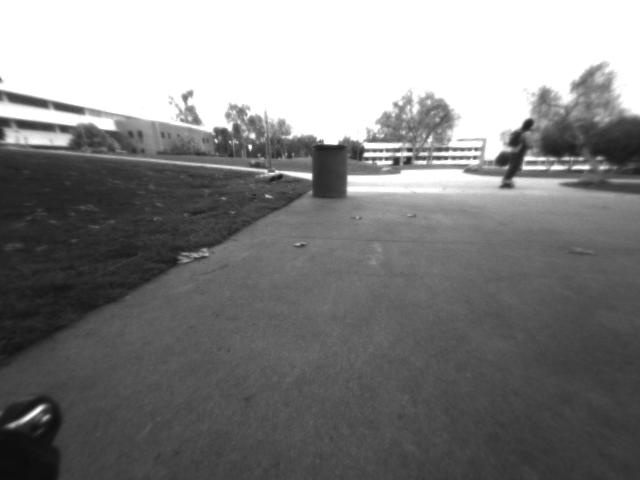trashcan: (309, 145, 350, 199)
